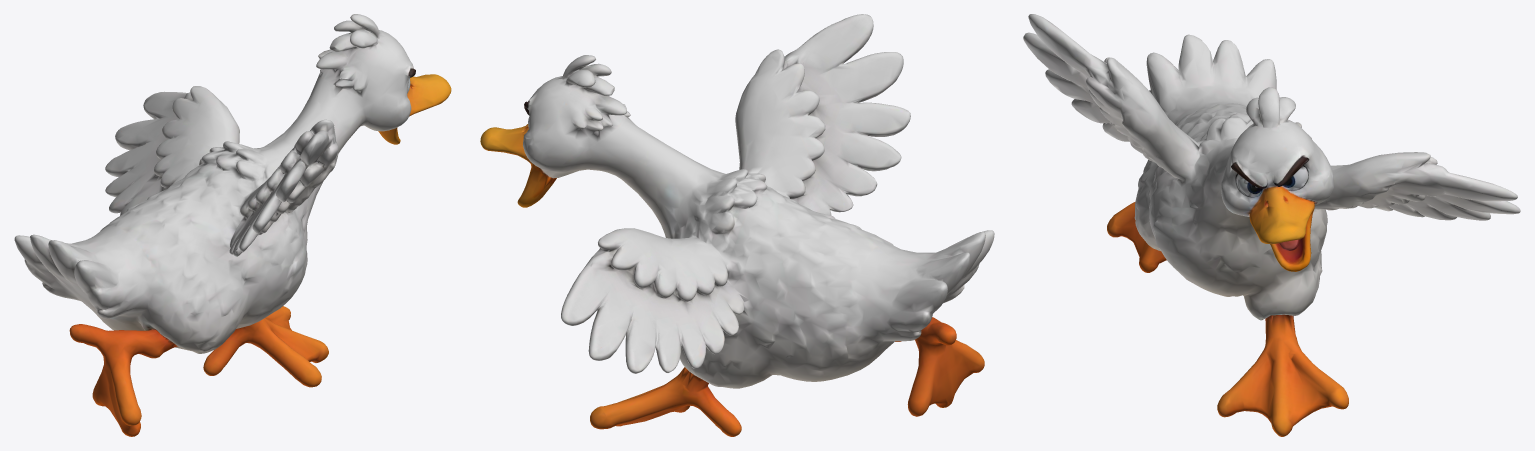
File: goose.glb
3 views of the same model, side by side, from view 1: azimuth 30°, elevation 25°; view 2: azimuth 150°, elevation 25°; view 3: azimuth 270°, elevation 25° (orthographic). The views are drawn at different scales.
Visible parts, largest first — view 1: tripo_node_96f26448-653c-48c9-a30e-88b33a550a7b; view 2: tripo_node_96f26448-653c-48c9-a30e-88b33a550a7b; view 3: tripo_node_96f26448-653c-48c9-a30e-88b33a550a7b.
Boxes of the visible parts, x1,y1,x2,y2 form: tripo_node_96f26448-653c-48c9-a30e-88b33a550a7b: [14, 14, 451, 436]; tripo_node_96f26448-653c-48c9-a30e-88b33a550a7b: [480, 14, 994, 436]; tripo_node_96f26448-653c-48c9-a30e-88b33a550a7b: [1023, 14, 1520, 436].
Size of the model in its own units: 0.9998 by 0.7411 by 0.9186.
Materials: 1 (1 with a texture image).
